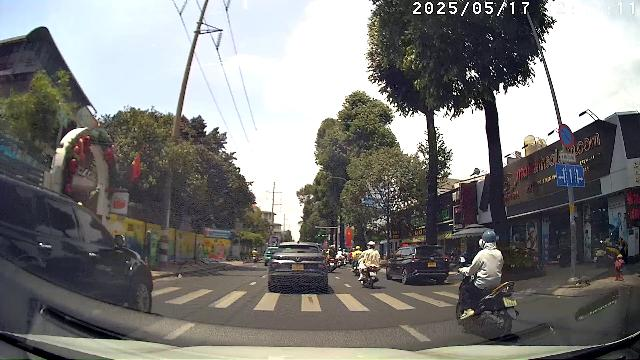131a-cam-do-xe: (558, 123, 575, 148)
